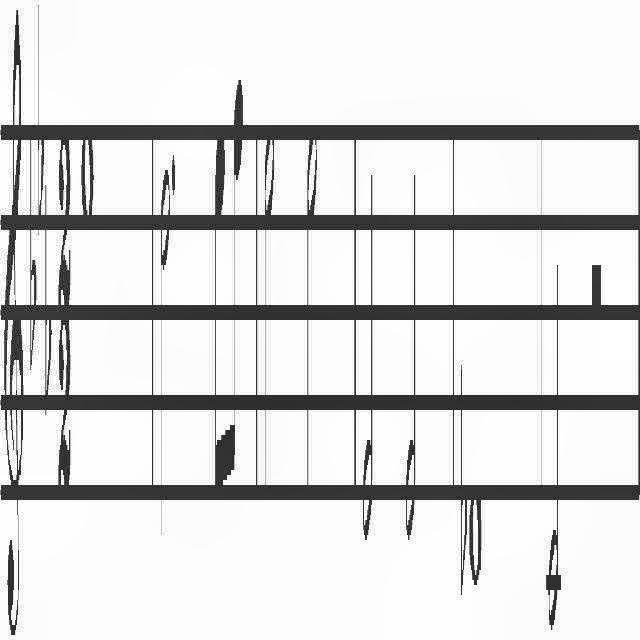Bass-clef: (3, 0, 24, 638)
Bemol: (29, 135, 37, 381), (460, 354, 468, 600), (36, 1, 44, 228), (44, 165, 51, 419)
Eighth-note: (228, 58, 245, 500), (214, 124, 226, 508)
Full-note: (468, 476, 482, 604), (80, 119, 96, 227)
Half-note: (546, 234, 562, 630), (262, 108, 276, 504), (362, 150, 374, 558), (306, 116, 318, 520), (158, 150, 170, 550), (406, 154, 418, 554)
